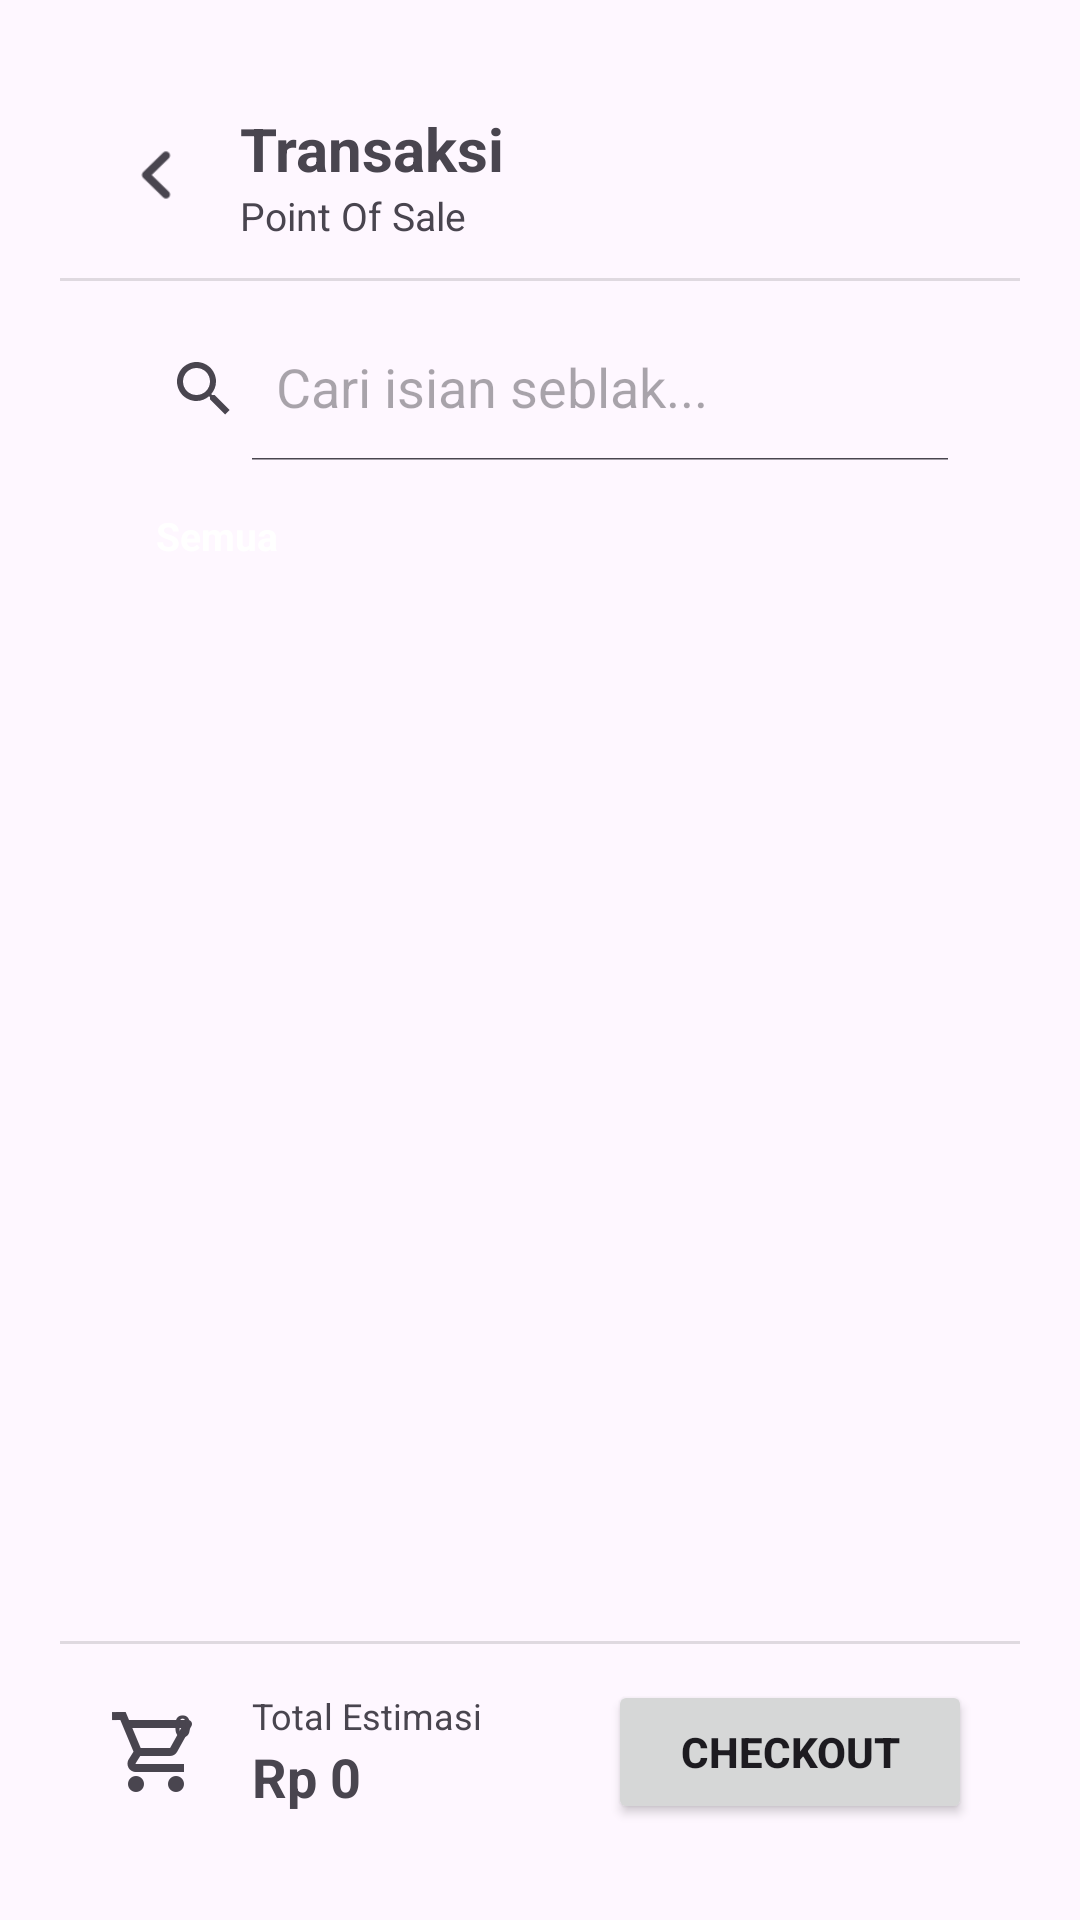

Locate icon controls on the screen. Image size 1080w x 1920h, boxes as bbox=(x1, y1, x2, y2).
Kembali: bbox=(141, 151, 171, 199)
Keranjang: bbox=(112, 1712, 192, 1792)
